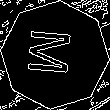M_E: (28, 30, 82, 80)
